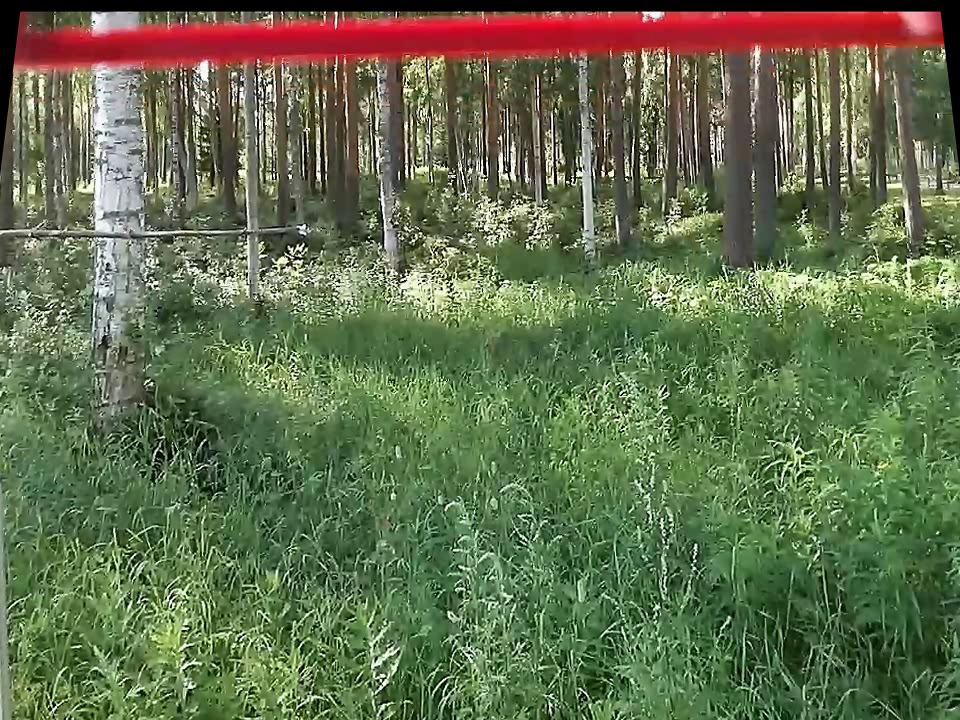branch: (3, 216, 294, 246)
